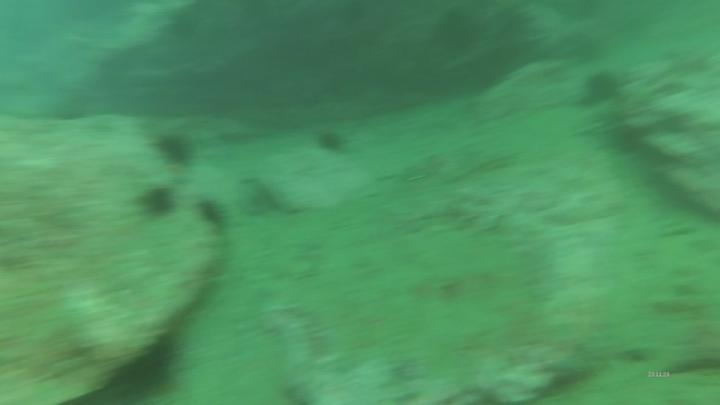echinus: (139, 181, 181, 219), (154, 134, 198, 166), (198, 196, 231, 230), (587, 72, 617, 106)
